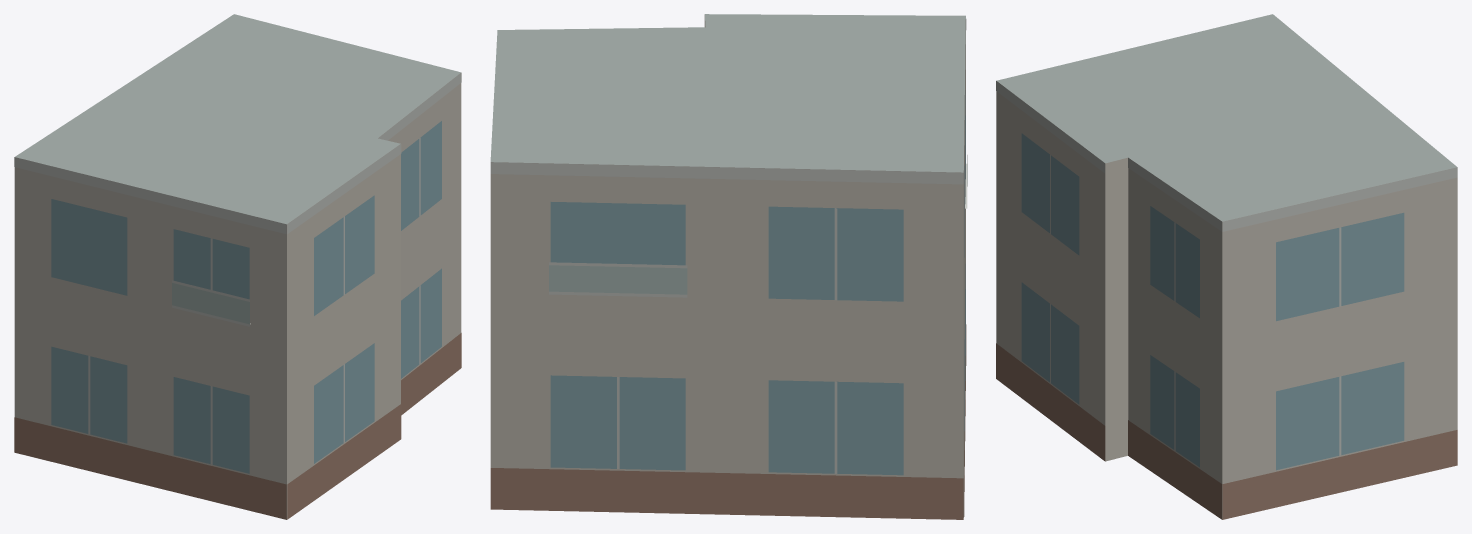
File: survey-upis-32595261.glb
The picture shows the model from 3 angles, left to right: view 1: azimuth 30°, elevation 25°; view 2: azimuth 150°, elevation 25°; view 3: azimuth 270°, elevation 25°; orthographic projection. The views are drawn at different scales.
Visible parts, largest first — view 1: survey-upis-32595261.tmp; view 2: survey-upis-32595261.tmp; view 3: survey-upis-32595261.tmp.
Boxes of the visible parts, x1=… form: survey-upis-32595261.tmp: x1=14, y1=14, x2=461, y2=519; survey-upis-32595261.tmp: x1=490, y1=14, x2=967, y2=519; survey-upis-32595261.tmp: x1=996, y1=14, x2=1457, y2=519.
Bounding box in the file's own units: 10.62 × 7.1 × 9.97.
